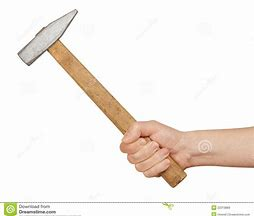hammer: (16, 8, 189, 189)
